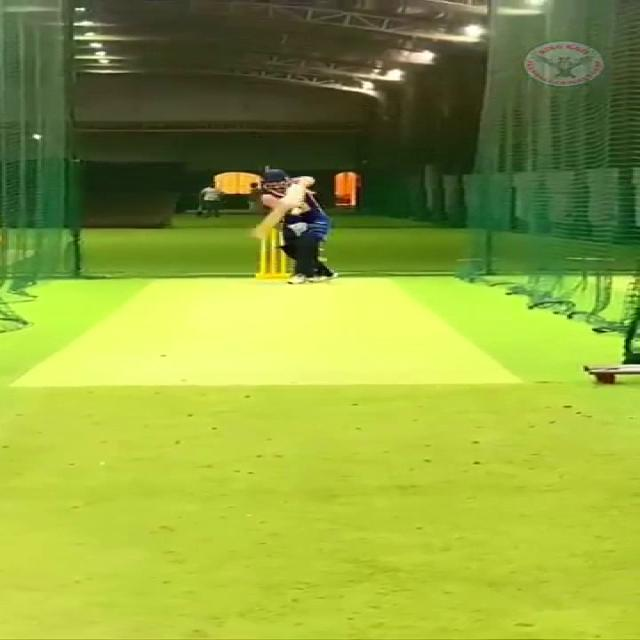batsman: (240, 162, 343, 286)
